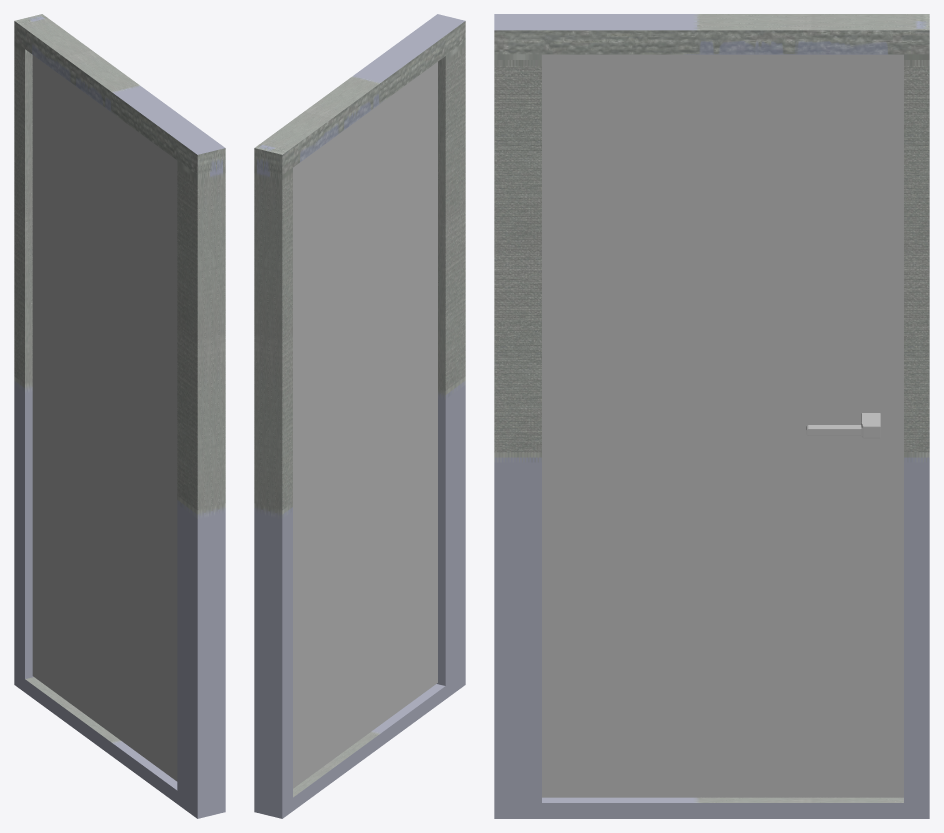
Rendered from kapi.obj.
3 views of the same model, side by side, from view 1: azimuth 30°, elevation 25°; view 2: azimuth 150°, elevation 25°; view 3: azimuth 270°, elevation 25° (orthographic). The views are drawn at different scales.
Visible parts, largest first — view 1: Cube.109_Cube.414, Cube.108_Cube.413; view 2: Cube.109_Cube.414, Cube.108_Cube.413; view 3: Cube.109_Cube.414, Cube.108_Cube.413.
Part boxes in pixels (box(x1,y1,x2,y2)): Cube.109_Cube.414: box(32, 55, 177, 781); Cube.108_Cube.413: box(14, 14, 225, 818); Cube.109_Cube.414: box(293, 62, 437, 788); Cube.108_Cube.413: box(254, 14, 465, 818); Cube.109_Cube.414: box(542, 54, 903, 797); Cube.108_Cube.413: box(494, 14, 929, 818).
Bounding box in the file's own units: 0.2865 × 4 × 2.
